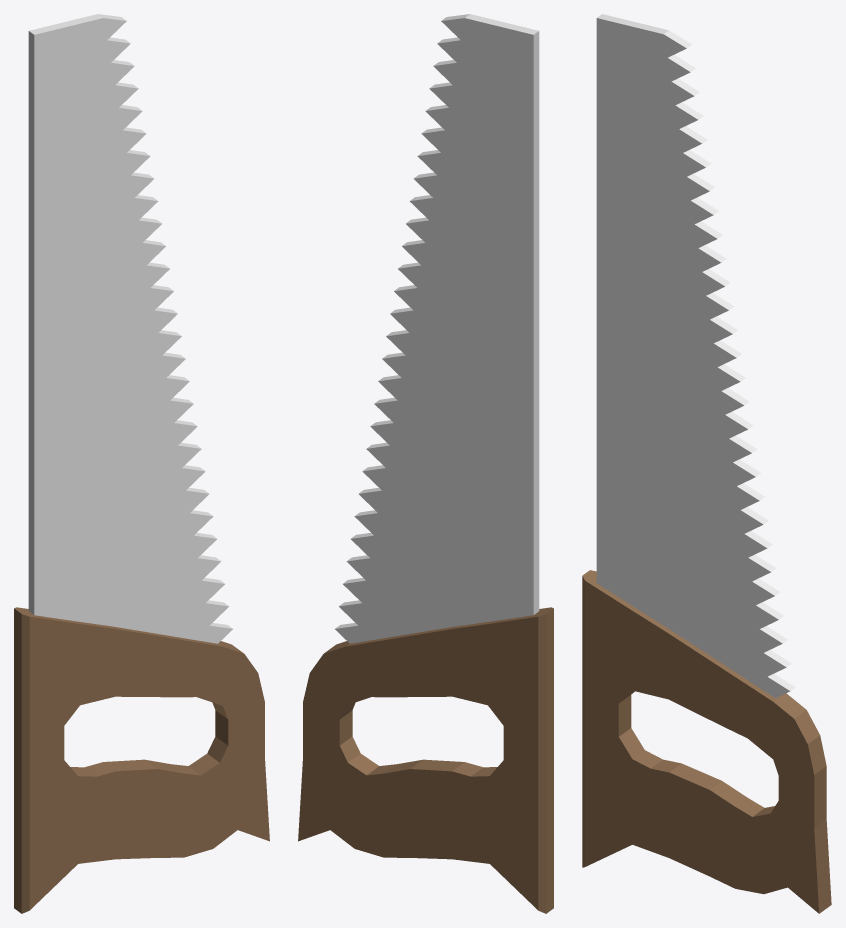
The model's file is Saw.fbx.
3 views of the same model, side by side, from view 1: azimuth 30°, elevation 25°; view 2: azimuth 150°, elevation 25°; view 3: azimuth 330°, elevation 25° (orthographic). The views are drawn at different scales.
Parts seen in each view (by area): view 1: Saw_Combined'; view 2: Saw_Combined'; view 3: Saw_Combined'.
Boxes of the visible parts, bbox=[...] form: Saw_Combined': bbox=[14, 14, 269, 913]; Saw_Combined': bbox=[298, 14, 553, 913]; Saw_Combined': bbox=[582, 14, 831, 913].
Bounding box in the file's own units: 46.23 × 157 × 4.16.
